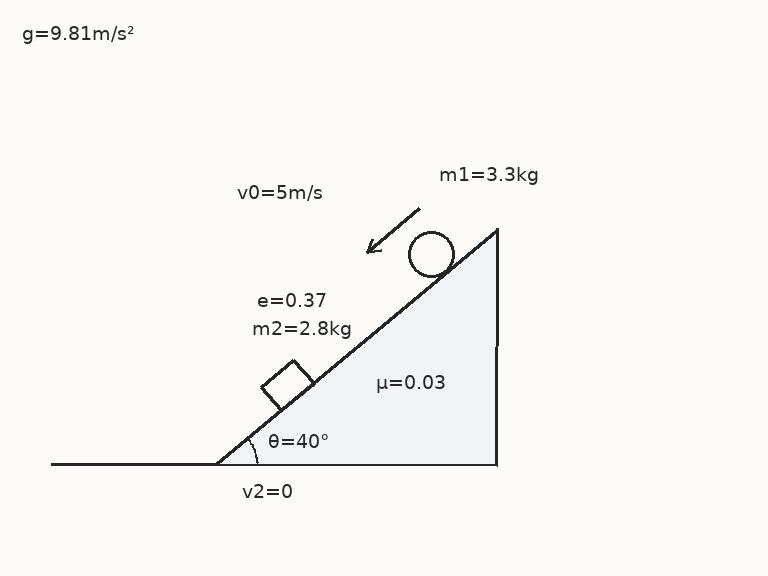ball: (406, 229, 456, 279)
block: (260, 358, 315, 412)
ramp: (215, 227, 499, 466)
